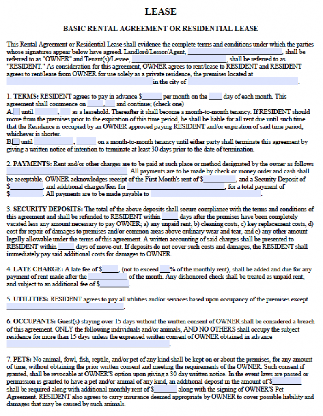textline: (4, 76, 154, 88), (4, 340, 172, 350), (4, 164, 129, 177), (4, 301, 125, 313), (188, 75, 298, 88), (126, 181, 228, 192), (186, 46, 285, 57), (150, 192, 264, 201), (132, 55, 228, 64), (32, 135, 74, 147), (87, 273, 128, 282), (74, 133, 98, 148), (9, 183, 44, 193), (202, 174, 237, 184), (271, 378, 303, 388), (8, 191, 45, 199), (98, 281, 130, 290), (34, 107, 59, 118), (152, 384, 178, 394), (100, 265, 121, 275), (207, 92, 223, 104), (56, 241, 75, 251), (159, 212, 180, 221), (141, 92, 160, 101), (87, 101, 105, 110), (58, 106, 72, 117), (158, 264, 171, 275), (104, 99, 115, 108)
